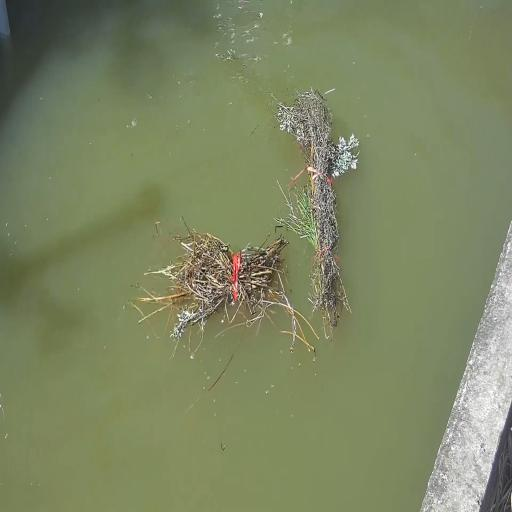twig: (282, 96, 363, 325), (176, 232, 302, 364)
